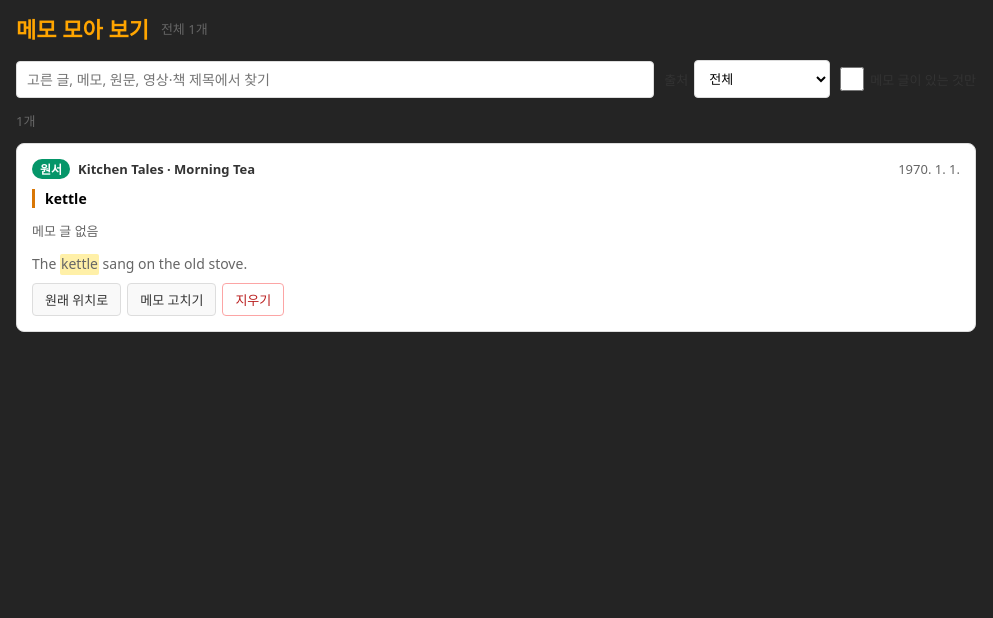
Test case: MemoCollection › 4.5-4 모아 보기에서 고친 메모 글이 저장소에 저장된다
The image size is (993, 618).
Click the button "메모 고치기": click(172, 300) [127,283,216,316]
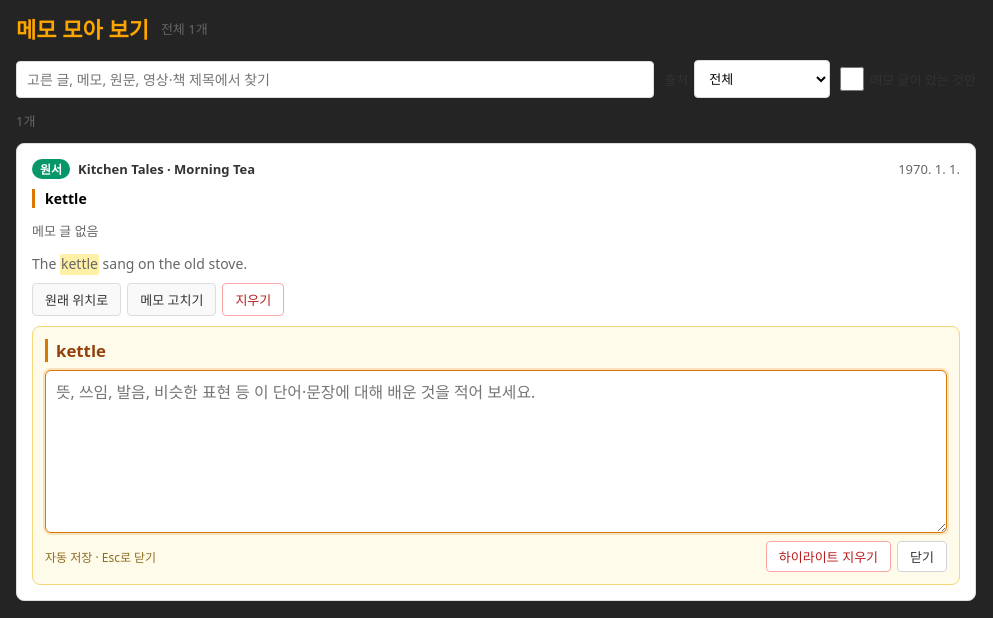
In the text box named "메모": (496, 452) [45,370,947,533], type "boils water for tea"
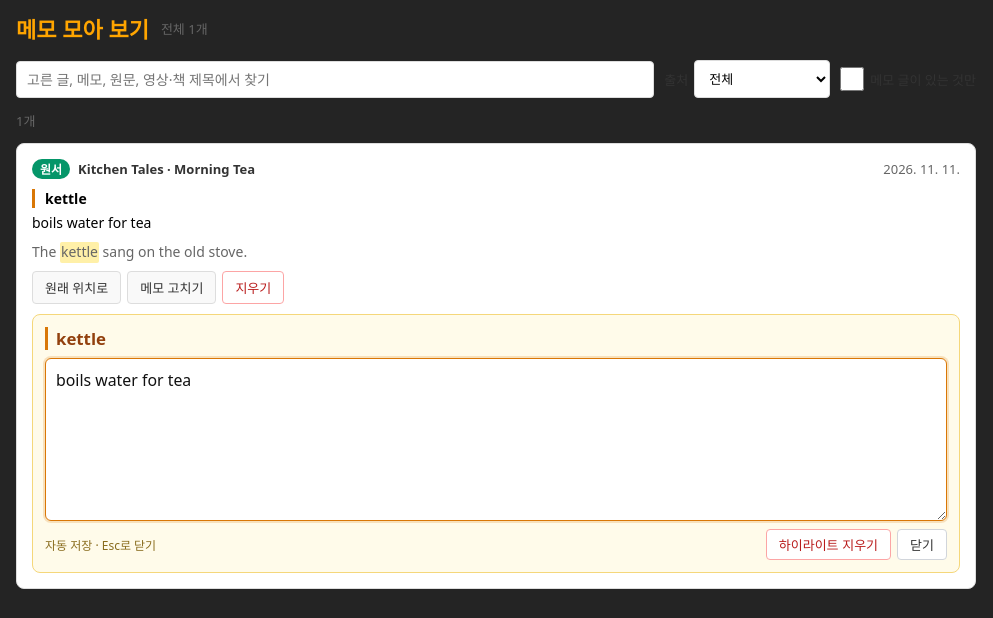
Check: the text "boils water for tea" is shown, box [32,213,151,232]
